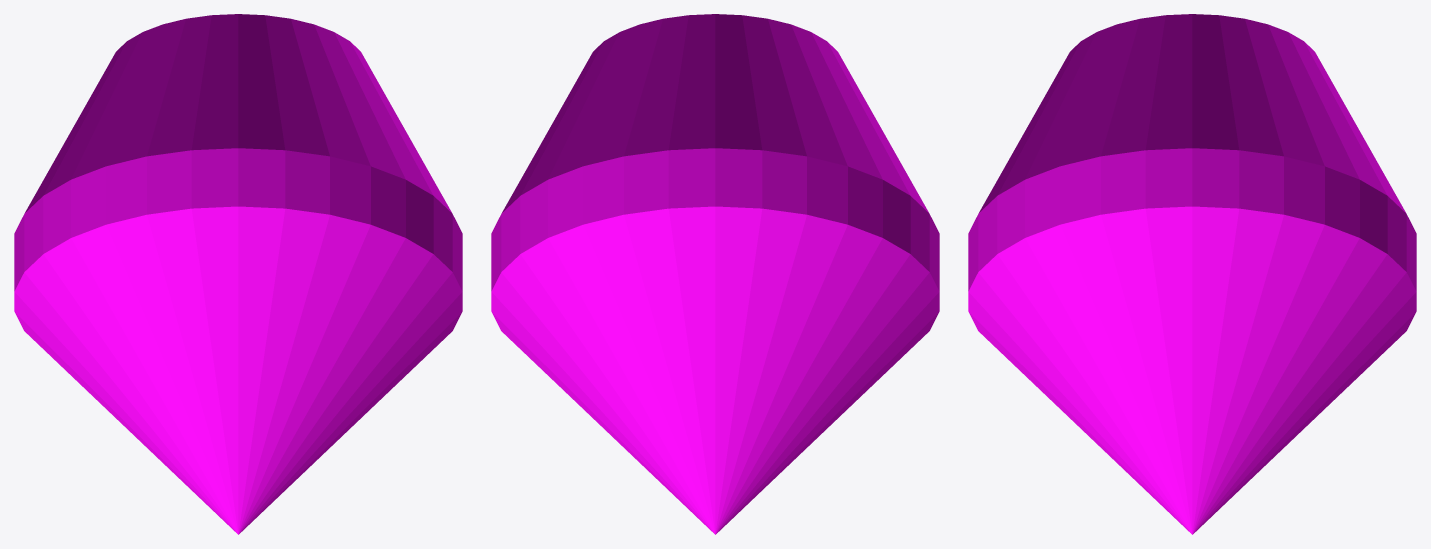
3 renders of one model, left to right at view 1: azimuth 30°, elevation 25°; view 2: azimuth 150°, elevation 25°; view 3: azimuth 270°, elevation 25°, orthographic.
Visible parts, largest first — view 1: algeomath; view 2: algeomath; view 3: algeomath.
Part boxes in pixels (x1,y1,x2,y2): algeomath: (14,14,462,534); algeomath: (491,14,939,534); algeomath: (968,14,1416,534).
Size of the model in its own units: 7 by 8 by 6.96.
1 material, 1 textured.
